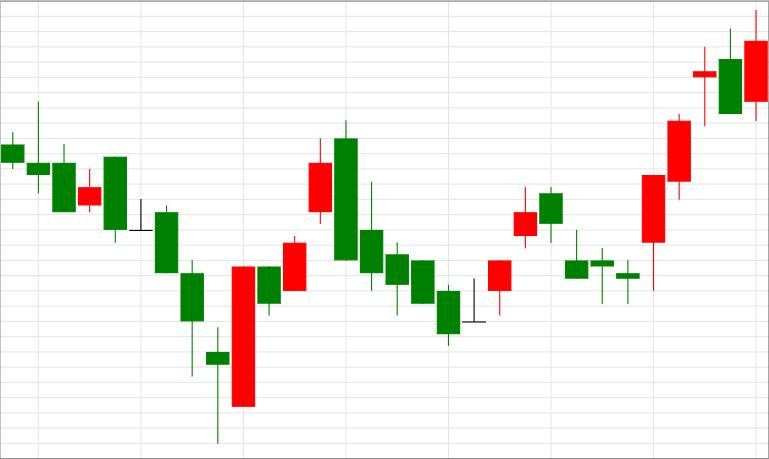bearish_engulfing_fall: (206, 120, 357, 445)
